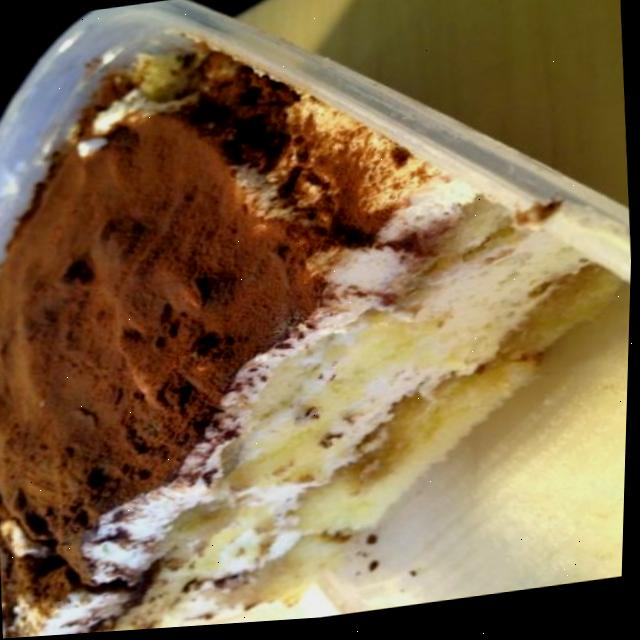蛋糕甜品: (0, 0, 613, 640)
